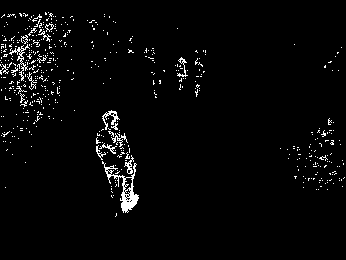person: (96, 110, 141, 215), (194, 57, 205, 98), (175, 59, 188, 91)
